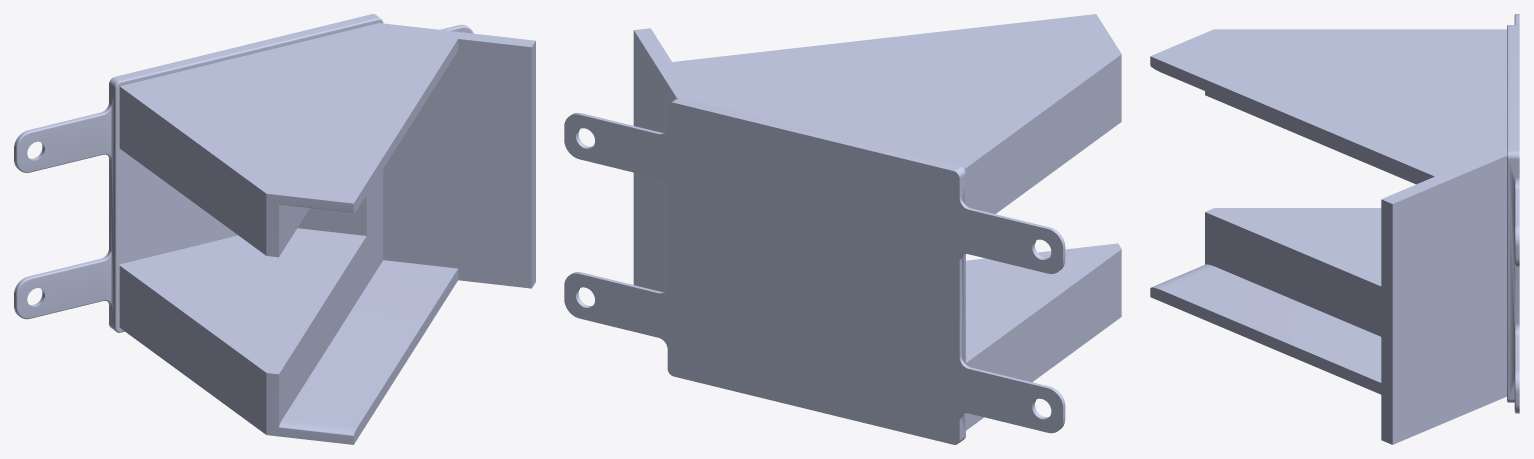
Rendered from stack45.glb.
3 renders of one model, left to right at view 1: azimuth 30°, elevation 25°; view 2: azimuth 150°, elevation 25°; view 3: azimuth 270°, elevation 25°, orthographic. The views are drawn at different scales.
Parts seen in each view (by area): view 1: g0; view 2: g0; view 3: g0.
Part boxes in pixels (x1,y1,x2,y2): g0: [14, 14, 535, 444]; g0: [564, 14, 1121, 444]; g0: [1150, 14, 1519, 444].
Bounding box in the file's own units: 0.164 × 0.086 × 0.1147.
